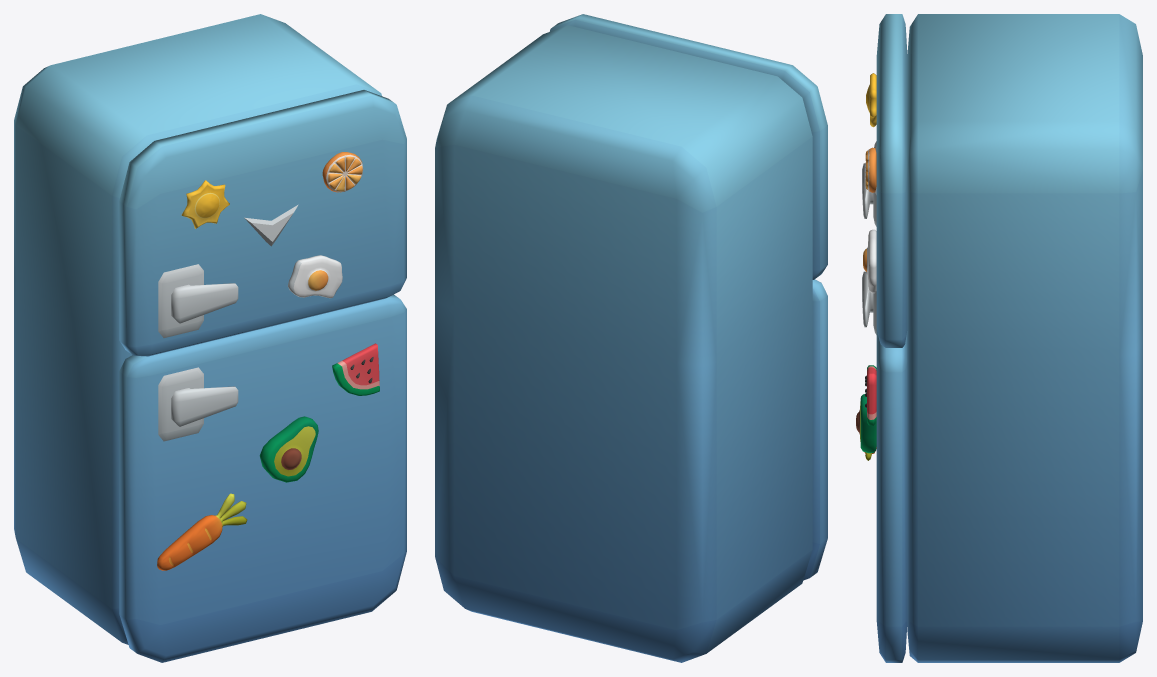
File: refri.glb
3 renders of one model, left to right at view 1: azimuth 30°, elevation 25°; view 2: azimuth 150°, elevation 25°; view 3: azimuth 270°, elevation 25°, orthographic. The views are drawn at different scales.
Parts seen in each view (by area): view 1: fridge_A_decorated_door_bottom, fridge_A_decorated, fridge_A_decorated_door_top, aguacate, zanahoria, huevo, sandia, sol, naranja; view 2: fridge_A_decorated, fridge_A_decorated_door_top, fridge_A_decorated_door_bottom; view 3: fridge_A_decorated, fridge_A_decorated_door_top, fridge_A_decorated_door_bottom, aguacate, huevo, sandia, naranja, sol.
Part boxes in pixels (<box>): fridge_A_decorated_door_bottom: <box>119,294,406,662</box>; fridge_A_decorated: <box>14,14,381,644</box>; fridge_A_decorated_door_top: <box>119,90,406,356</box>; aguacate: <box>259,416,318,482</box>; zanahoria: <box>157,493,247,570</box>; huevo: <box>288,255,342,298</box>; sandia: <box>332,343,379,395</box>; sol: <box>181,180,229,228</box>; naranja: <box>322,152,363,192</box>; fridge_A_decorated: <box>435,25,812,662</box>; fridge_A_decorated_door_top: <box>550,14,827,279</box>; fridge_A_decorated_door_bottom: <box>803,279,827,580</box>; fridge_A_decorated: <box>907,14,1142,662</box>; fridge_A_decorated_door_top: <box>862,14,907,347</box>; fridge_A_decorated_door_bottom: <box>862,271,907,662</box>; aguacate: <box>856,394,876,453</box>; huevo: <box>863,229,876,293</box>; sandia: <box>865,365,876,425</box>; naranja: <box>865,147,876,192</box>; sol: <box>866,73,876,127</box>.
Bounding box in the file's own units: 11.29 × 19.92 × 9.56.
Materials: 1 (1 with a texture image).
